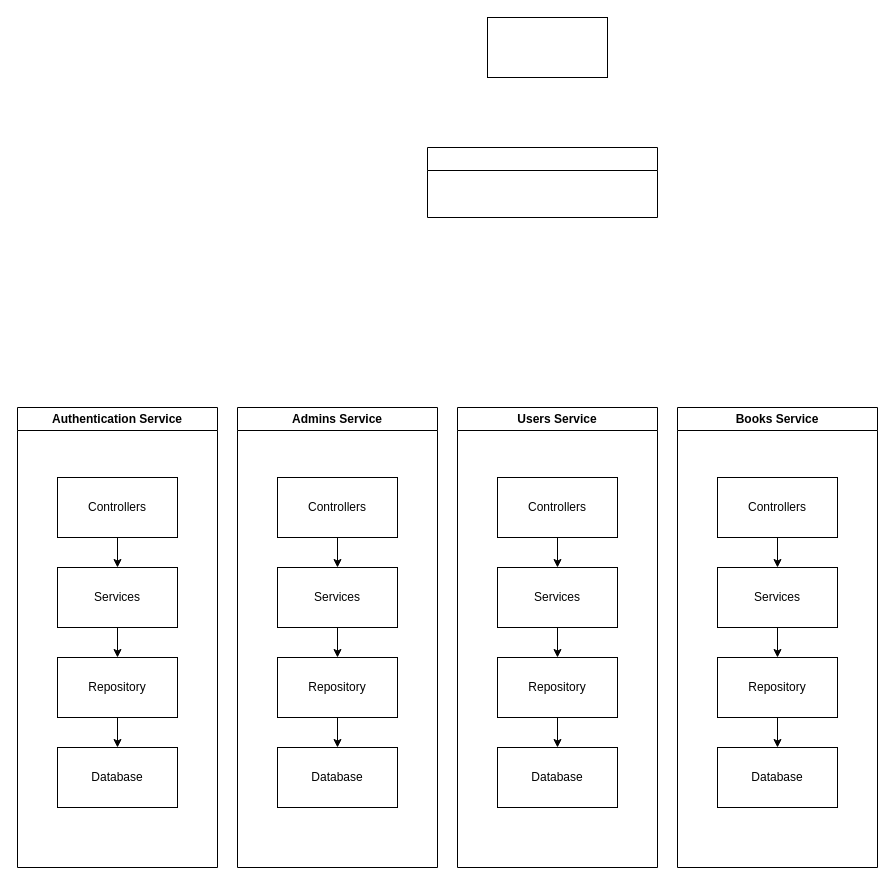
Image size: 895x885. Some labels were removed from this diagram. Each missing label, with the box of its shape:
API getway / delegation Service: (426, 146, 658, 218)
Application: (486, 16, 608, 78)
